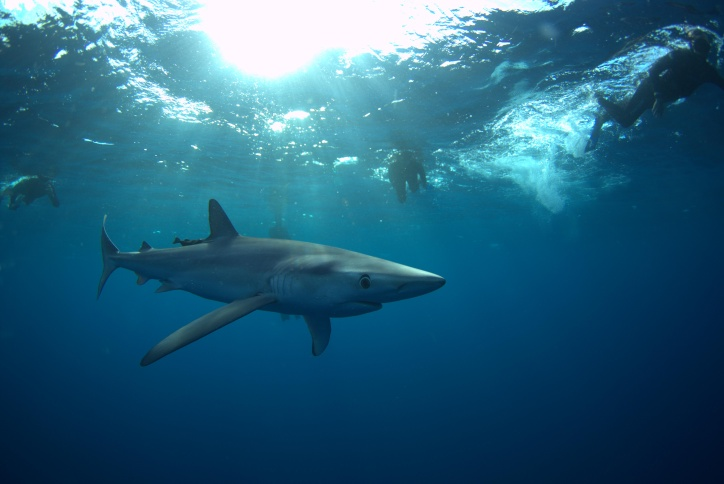Azul: (60, 188, 461, 385)
